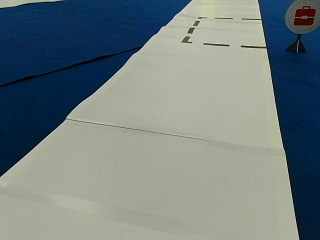company: (285, 0, 319, 33)
